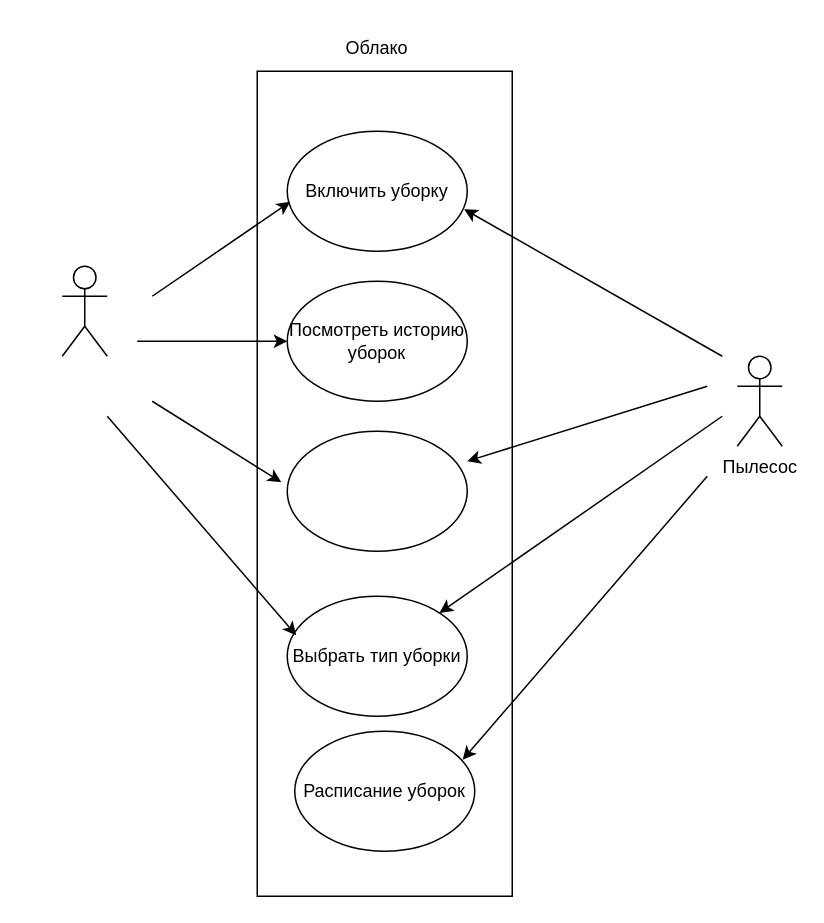
Image size: 824x923. Some labels were removed from this diagram. Here are the shapes that lost their labels. From the top down, the centre of each, then its label:
the point at 84,310: Пользователь
the point at 376,490: Настроить/изменить маршрут
